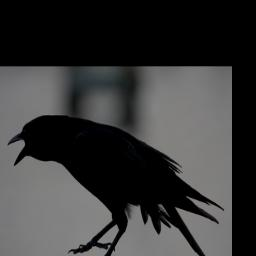Crow: (7, 114, 225, 256)
